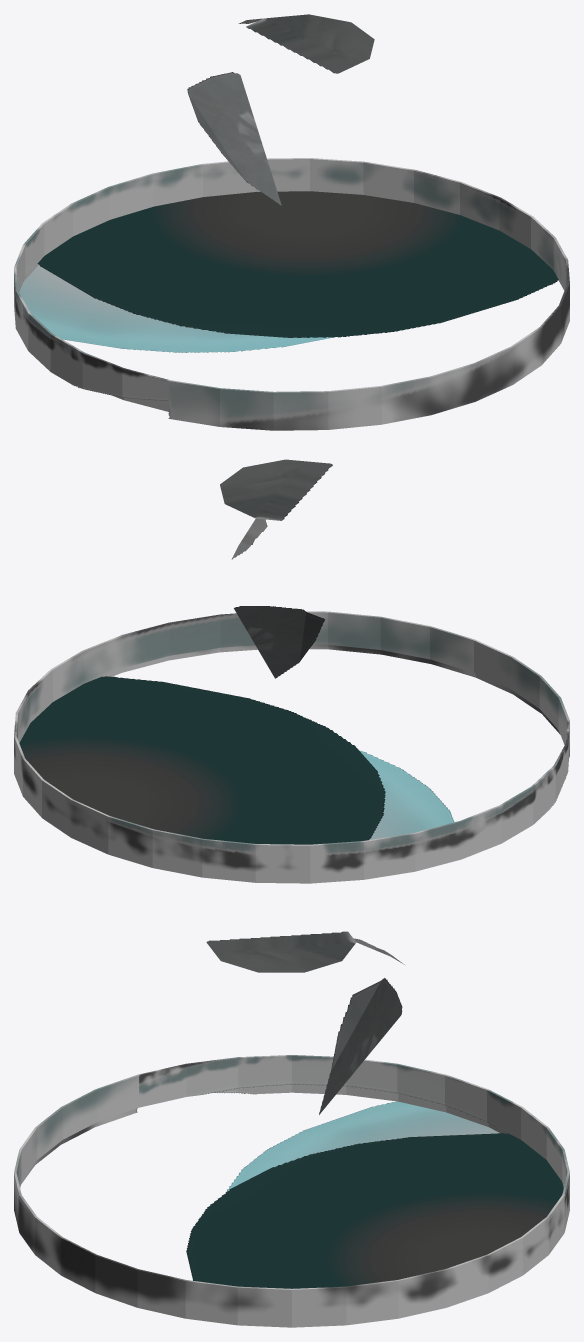
File: moogle_projector.obj
3 renders of one model, top to bottom at view 1: azimuth 30°, elevation 25°; view 2: azimuth 150°, elevation 25°; view 3: azimuth 270°, elevation 25°, orthographic.
Visible parts, largest first — view 1: Circle; view 2: Circle; view 3: Circle.
Boxes of the visible parts, x1,y1,x2,y2 form: Circle: [14, 14, 569, 430]; Circle: [14, 459, 569, 883]; Circle: [14, 931, 569, 1327].
Size of the model in its own units: 0.9996 by 0.5349 by 0.9996.
